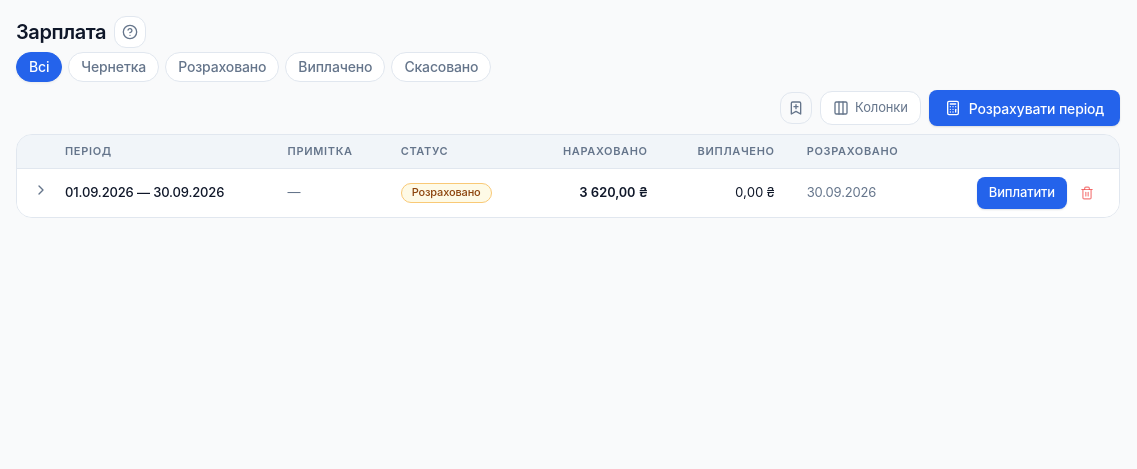
Test case: Payroll — розшифровка по нарядах (drill-down) › null vehicleName → «—», не рядок «null»
Click the button named "Розгорнути".
click(41, 190)  # box 33,182 -> 49,198
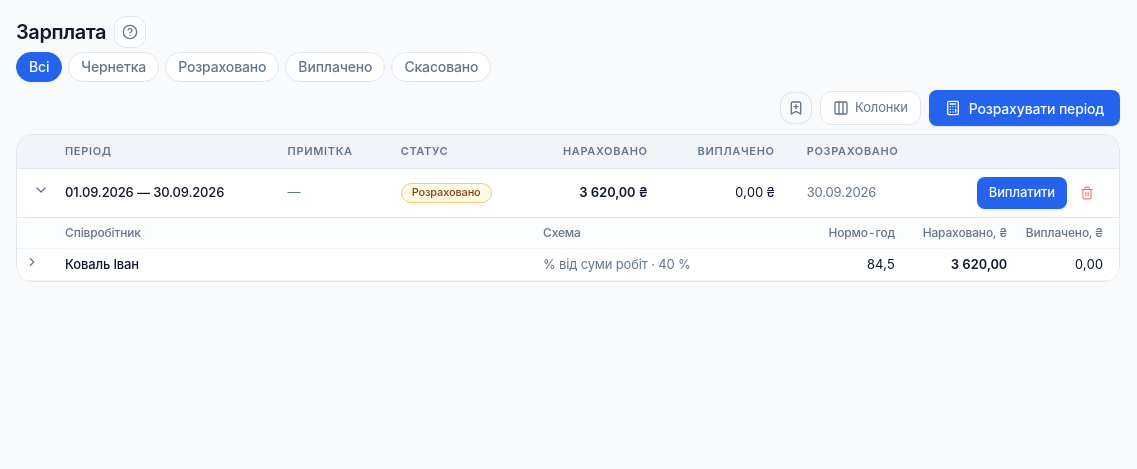
Click the button named "Показати наряди".
click(32, 262)  # box 25,254 -> 39,268
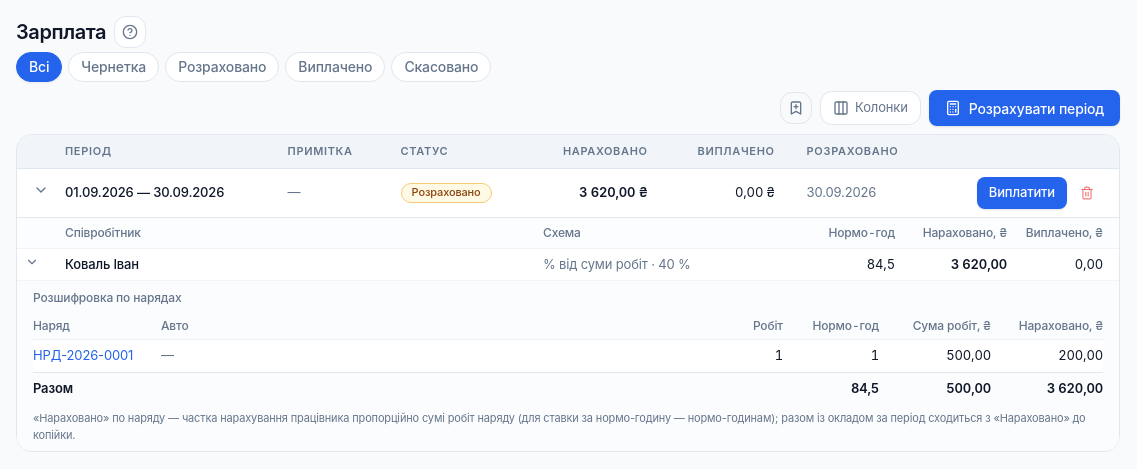
Expected: the text "—" next to "НРД-2026-0001" is shown, 161,347 -> 174,363
